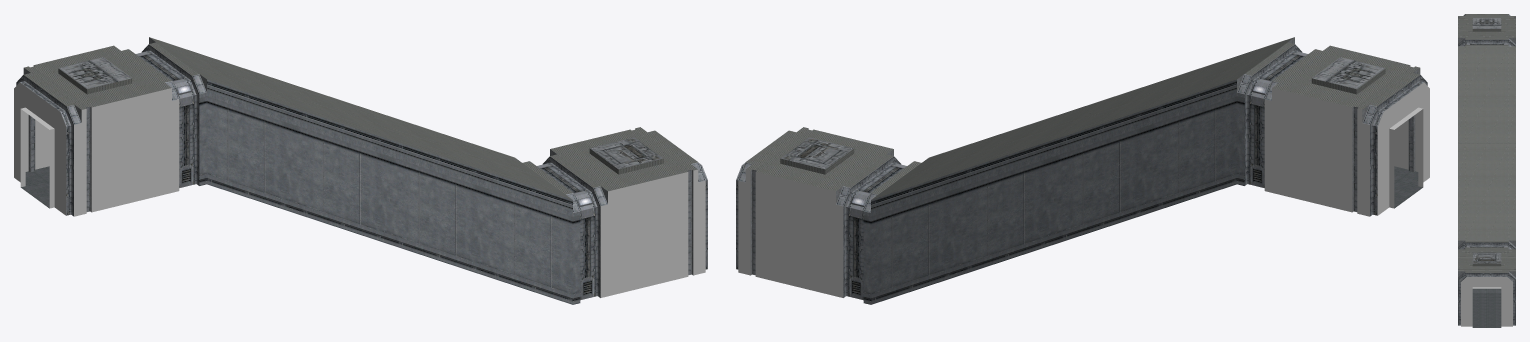
File: poi_all_impl_bunker_warren_s01_r77_hall77_mesh_r77.fbx
The picture shows the model from 3 angles, left to right: view 1: azimuth 30°, elevation 25°; view 2: azimuth 150°, elevation 25°; view 3: azimuth 270°, elevation 25°; orthographic projection. The views are drawn at different scales.
Parts seen in each view (by area): view 1: mesh_node; view 2: mesh_node; view 3: mesh_node.
Part boxes in pixels (box(x1,y1,x2,y2)): mesh_node: box(14, 37, 707, 304); mesh_node: box(736, 37, 1429, 304); mesh_node: box(1458, 14, 1515, 327).
Size of the model in its own units: 26 by 12.2 by 4.
